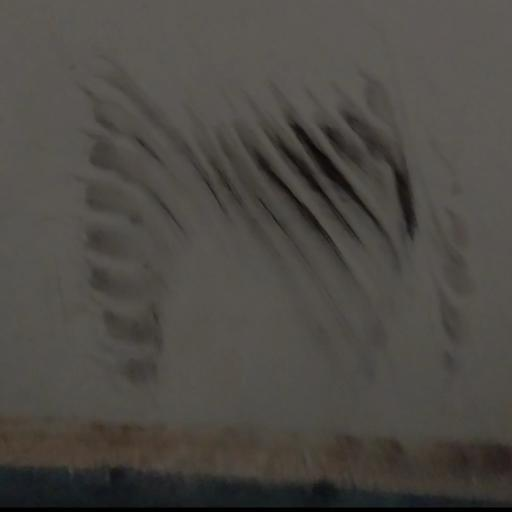stain: (79, 51, 498, 430)
